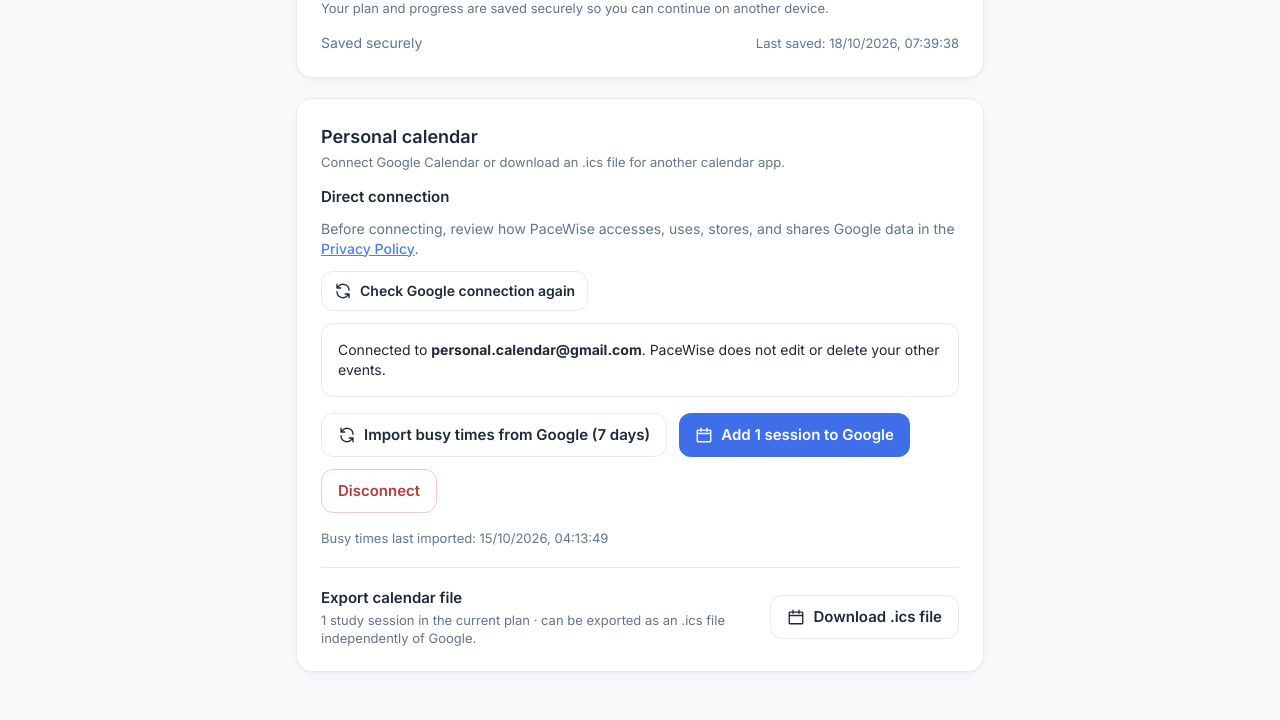
Test case: Student Settings › renders dynamic data, synchronization, rhythm, and Google statuses fully in English
This screenshot has width=1280, height=720.
(page scrolled)
Expected: the text "personal.calendar@gmail.com" is shown, [431,340,642,358]
Expected: the text "Last saved: 18/10/2026, 07:39:38" is shown, [756,34,959,52]
Click the button "Add 1 session to Google".
click(795, 434)  # box [679,412,910,456]
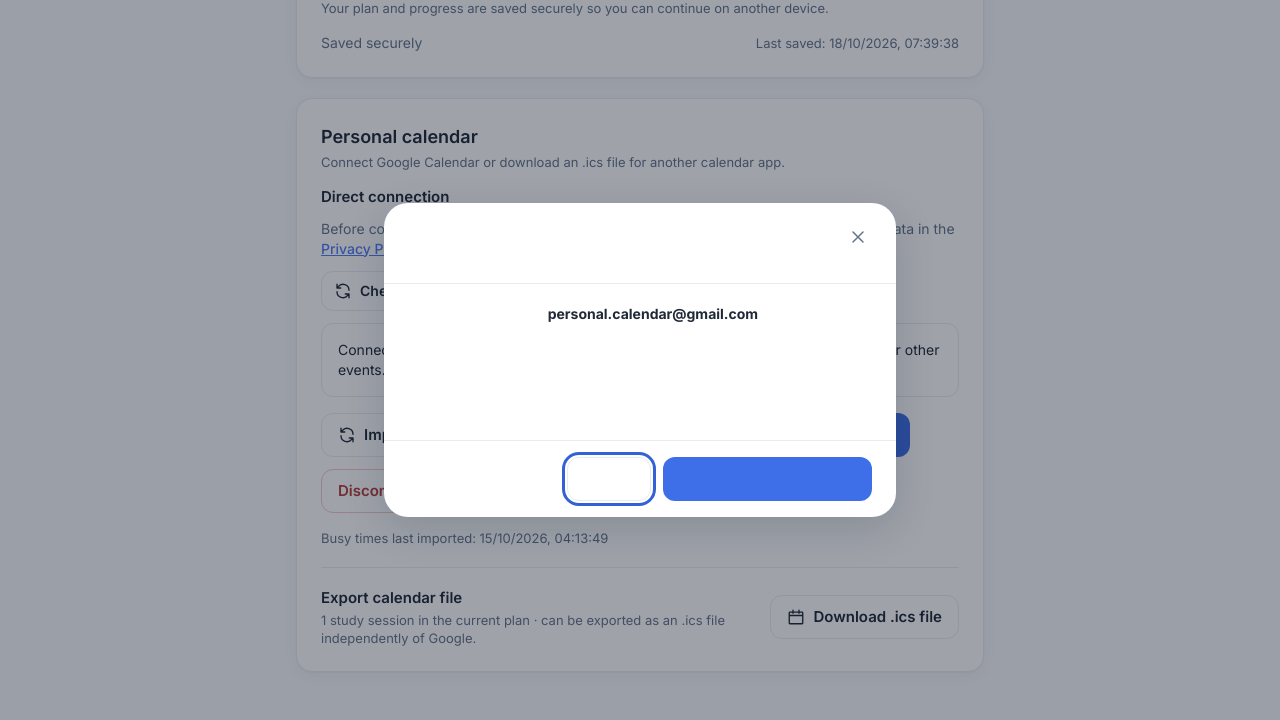
Expected: the button "Confirm creating 1 event" is shown, [663,457,872,501]
